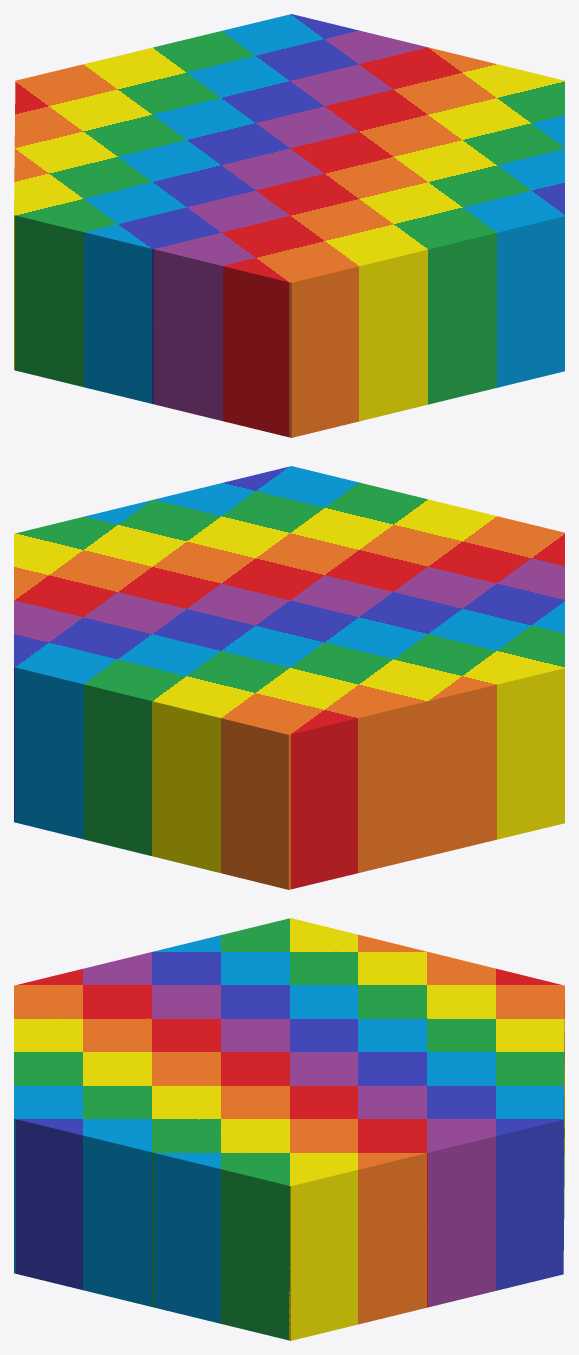
File: octagon.gltf
3 views of the same model, one above another, from view 1: azimuth 30°, elevation 25°; view 2: azimuth 150°, elevation 25°; view 3: azimuth 270°, elevation 25° (orthographic).
Size of the model in its own units: 0.2 by 0.0538 by 0.1737.
Materials: 1 (1 with a texture image).
